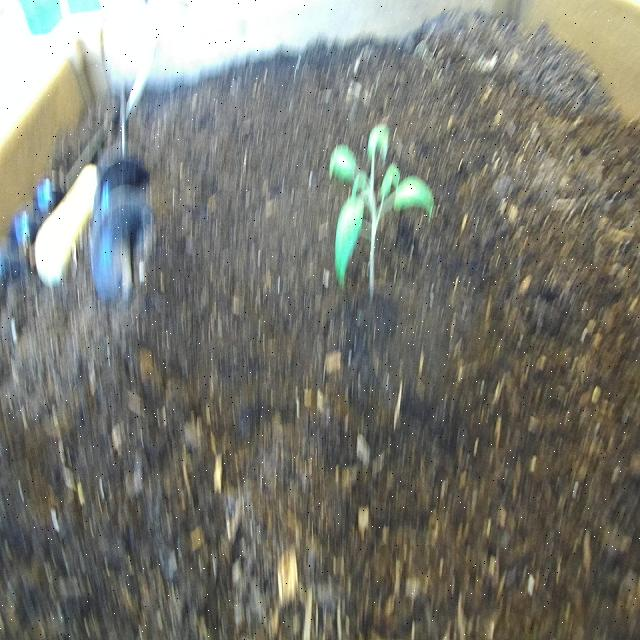Healthy: (320, 112, 440, 308)
